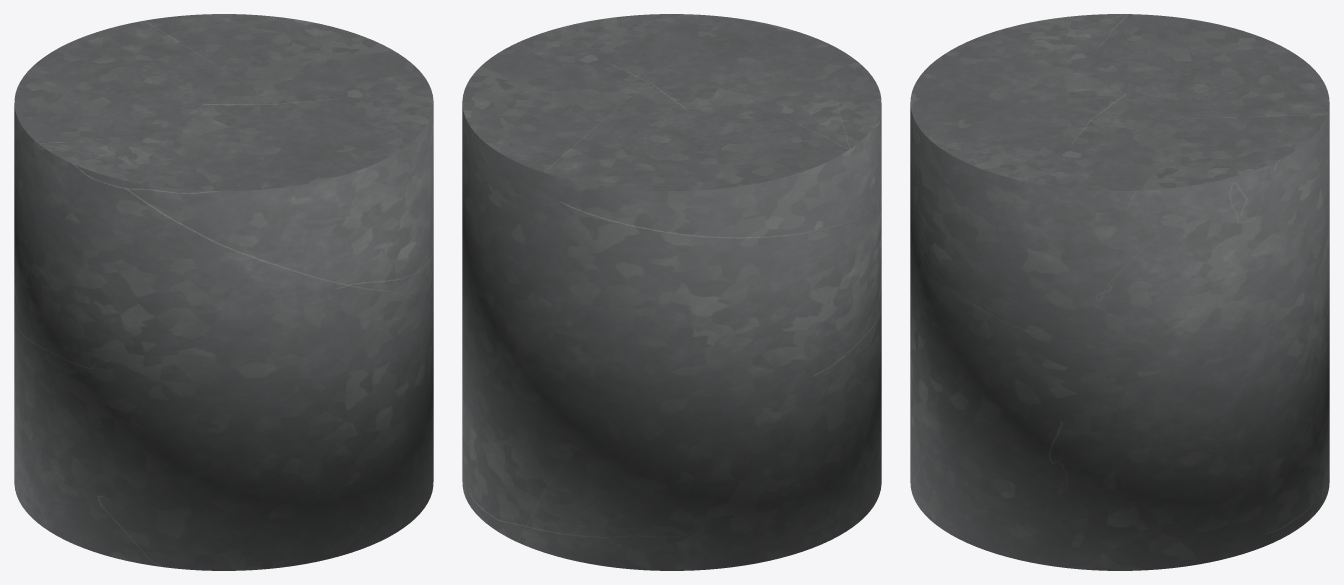
Rendered from metal_cylinder.obj.
The picture shows the model from 3 angles, left to right: view 1: azimuth 30°, elevation 25°; view 2: azimuth 150°, elevation 25°; view 3: azimuth 270°, elevation 25°; orthographic projection.
Visible parts, largest first — view 1: Cylinder.001; view 2: Cylinder.001; view 3: Cylinder.001.
Part boxes in pixels (left/top/right/bottom): Cylinder.001: left=14, top=14, right=433, bottom=570; Cylinder.001: left=462, top=14, right=881, bottom=570; Cylinder.001: left=910, top=14, right=1329, bottom=570.
Bounding box in the file's own units: 2 × 2 × 2.
1 material, 1 textured.
